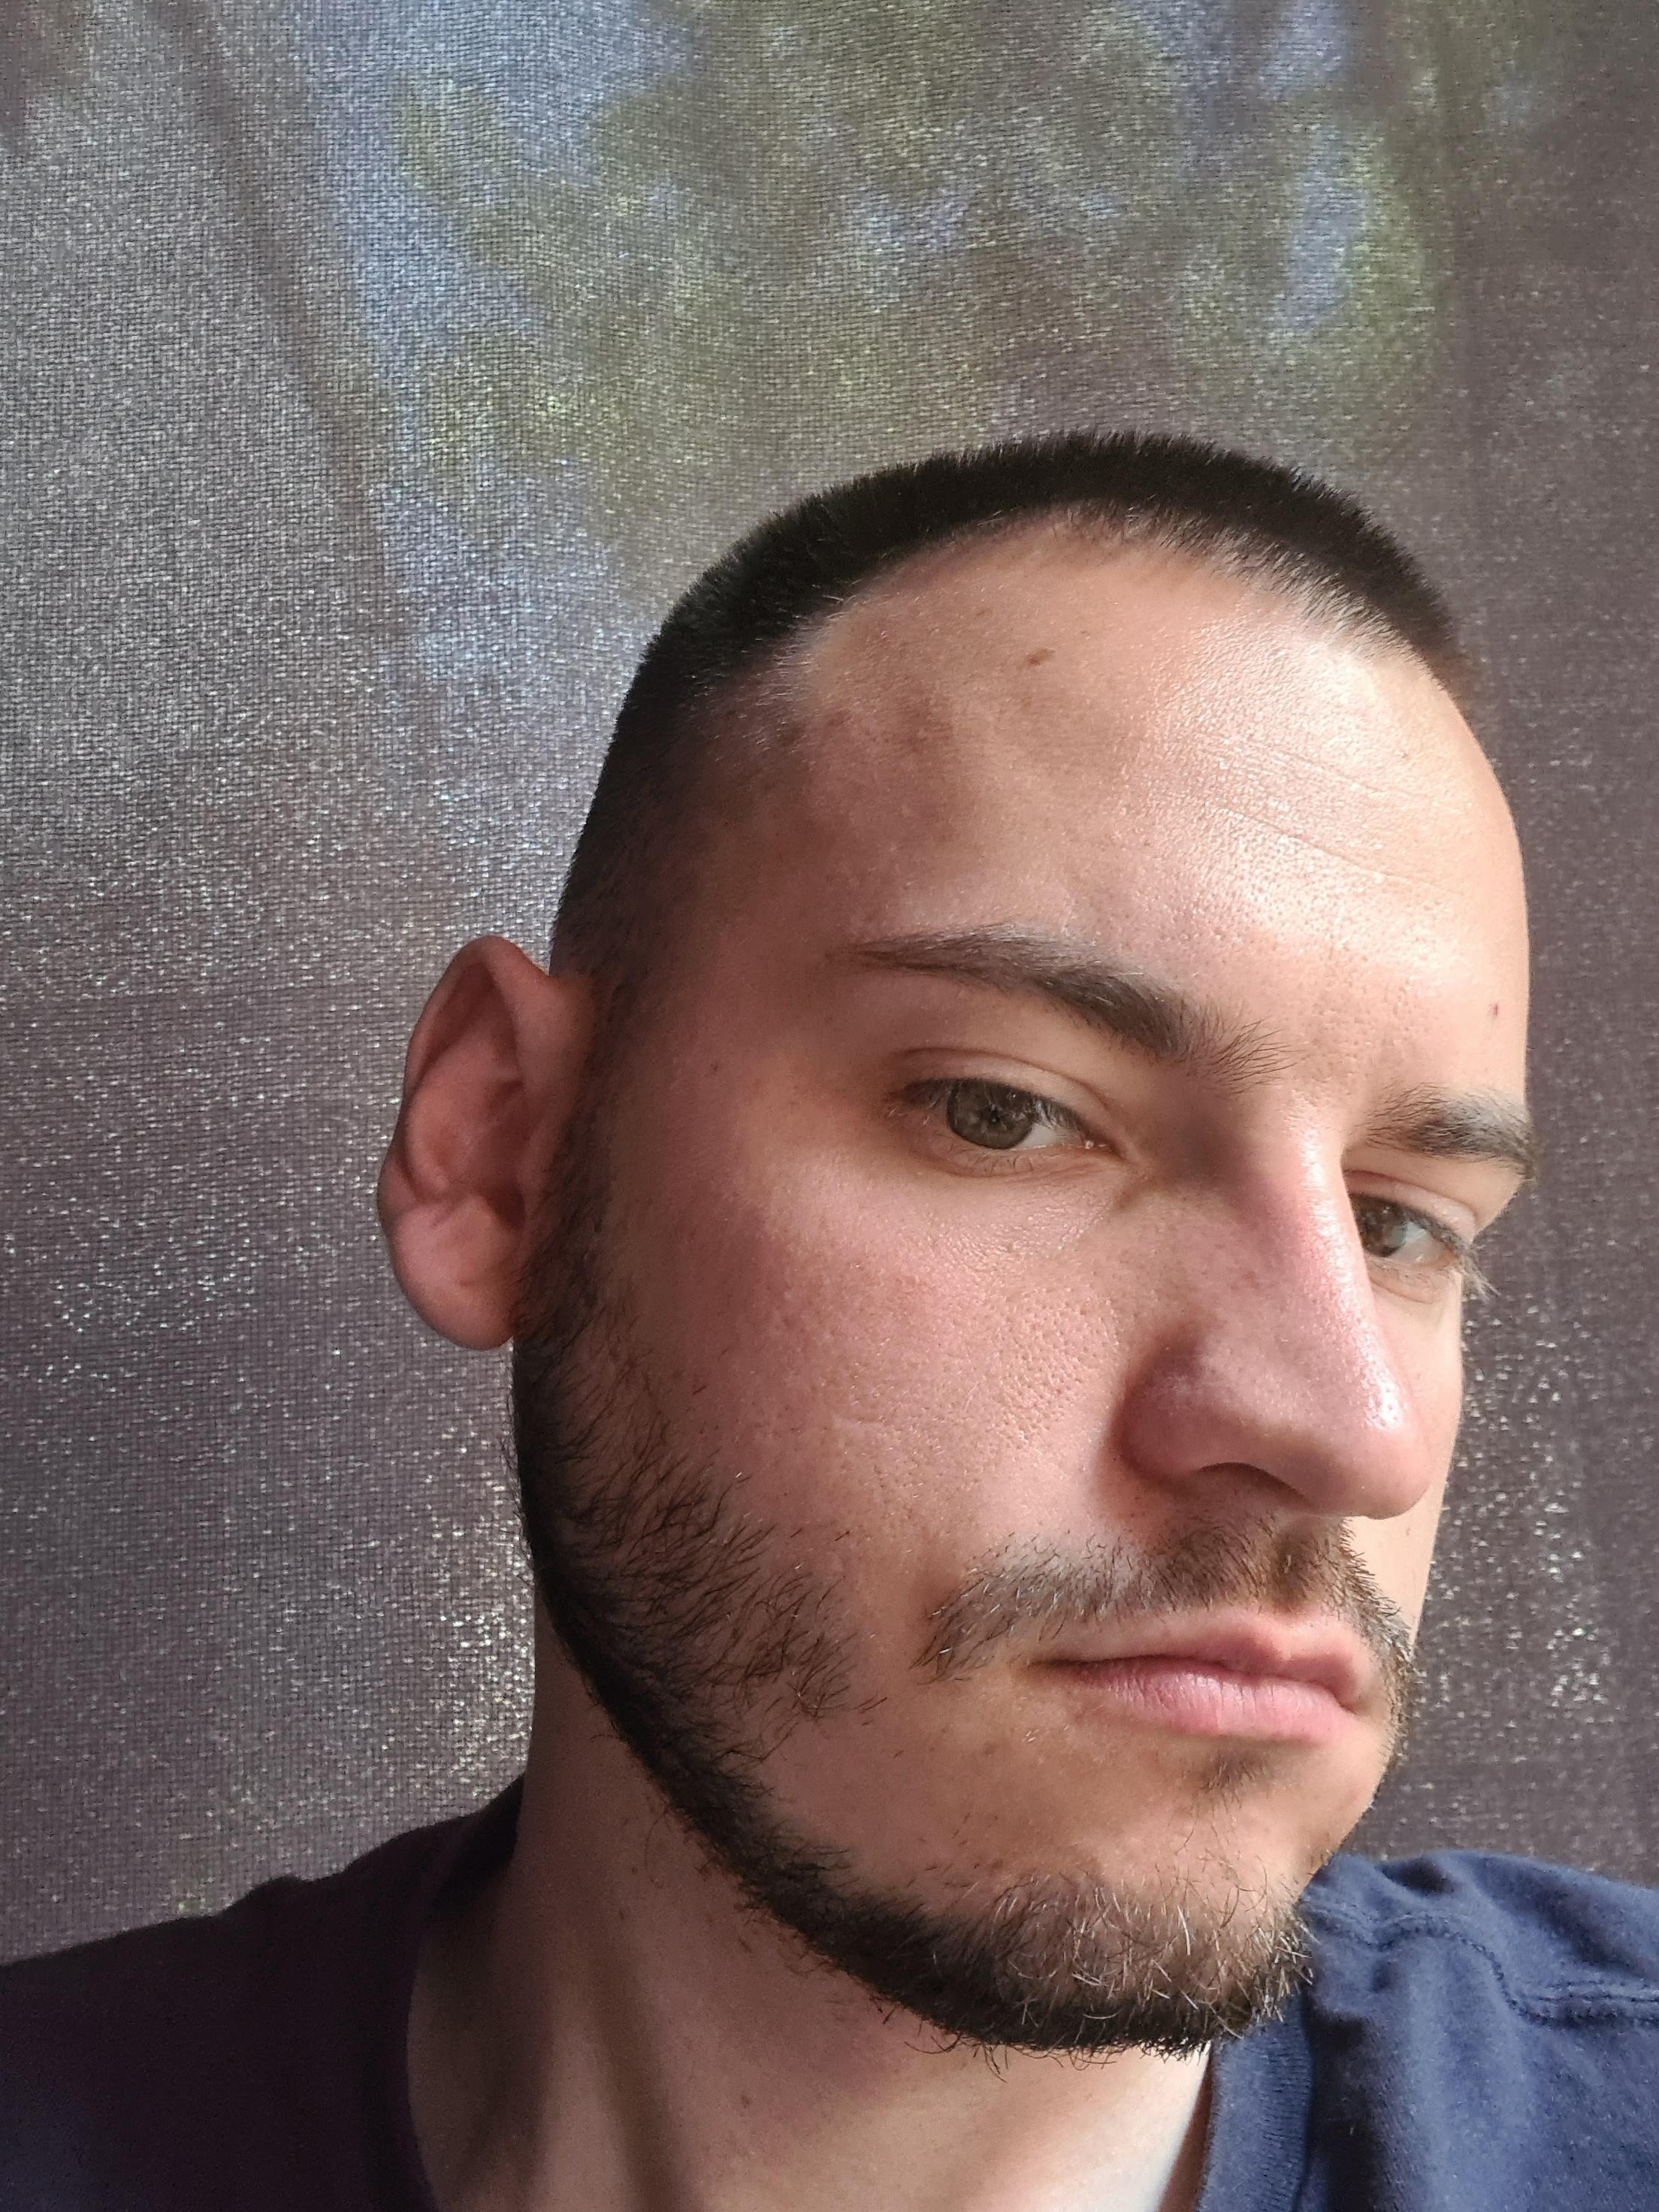Englarged-Pores: (951, 1277, 1122, 1468), (1265, 1249, 1412, 1440), (1162, 923, 1349, 1005), (1178, 815, 1310, 920), (1337, 860, 1420, 1019)
